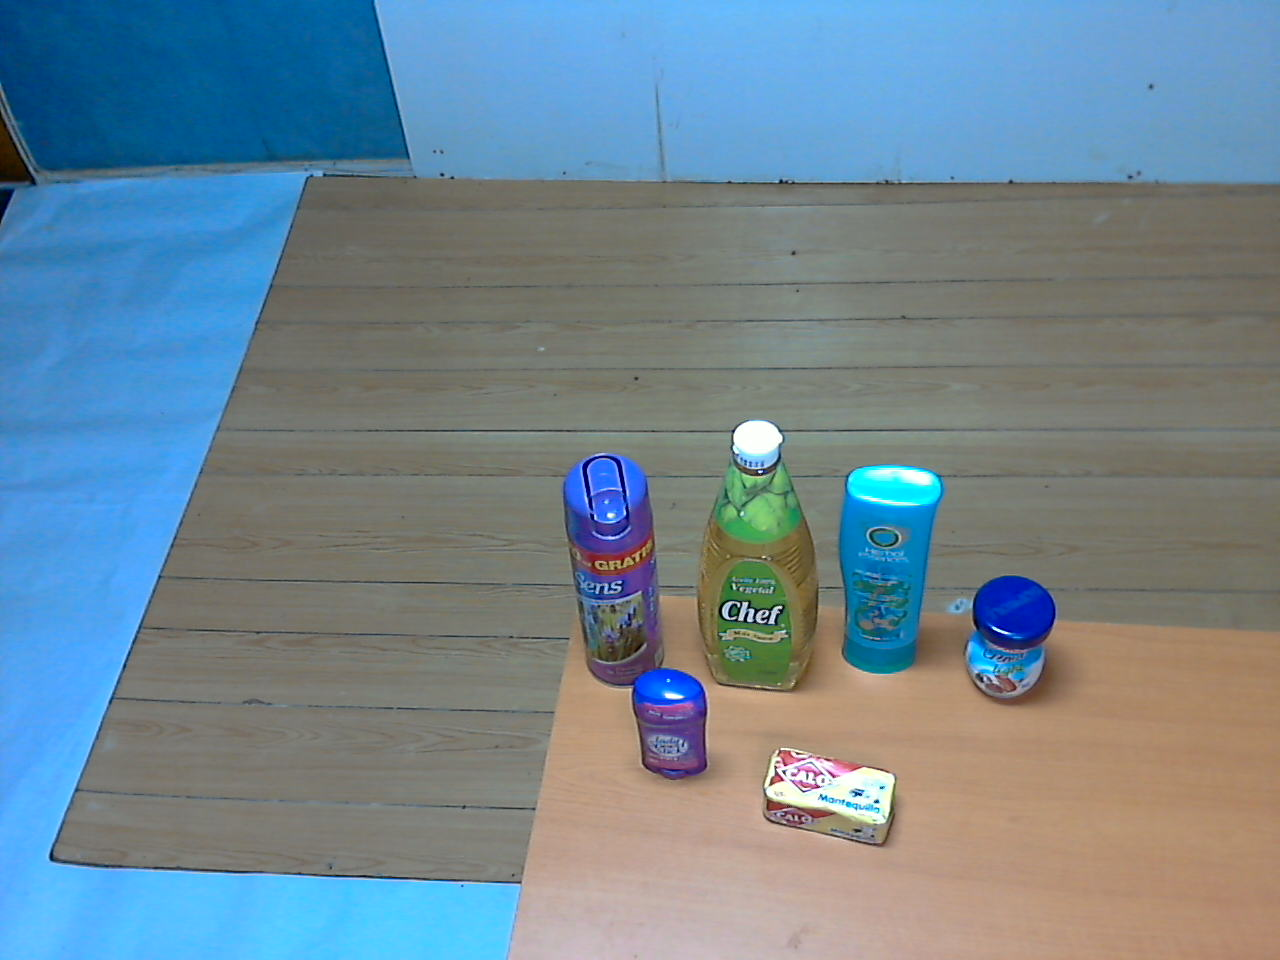aceite: (691, 419, 826, 714)
aerosol: (549, 448, 671, 698)
balsamo: (833, 463, 948, 681)
crema: (955, 573, 1063, 713)
desodorante: (624, 663, 717, 792)
mantequilla: (749, 744, 905, 854)
